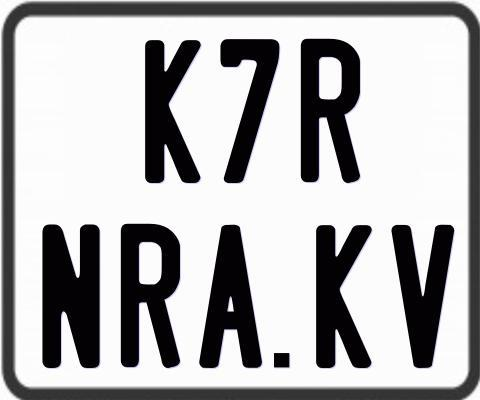7: (217, 36, 276, 184)
A: (197, 225, 266, 374)
K: (142, 38, 202, 186), (314, 222, 370, 366)
N: (41, 224, 101, 371)
R: (301, 36, 366, 186), (121, 224, 180, 371)
V: (389, 222, 457, 369)
